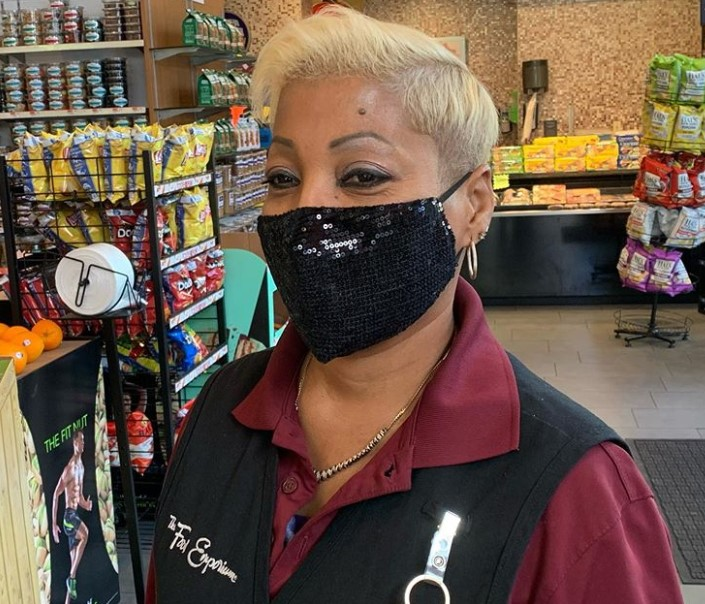face_with_mask: (255, 27, 493, 358)
